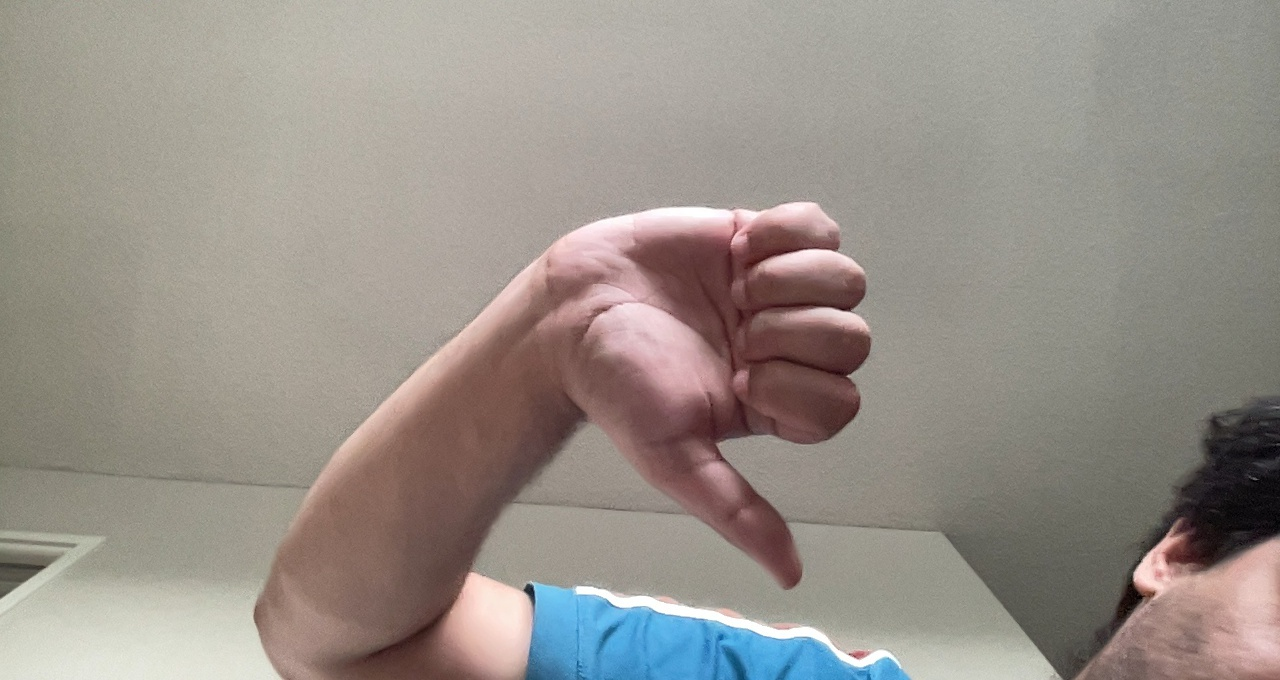thumbsdown: (533, 167, 876, 597)
